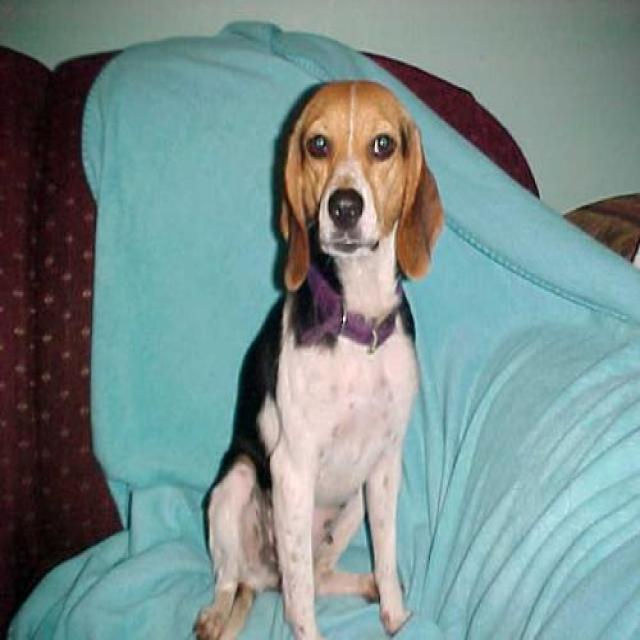Dogs: (191, 77, 444, 638)
